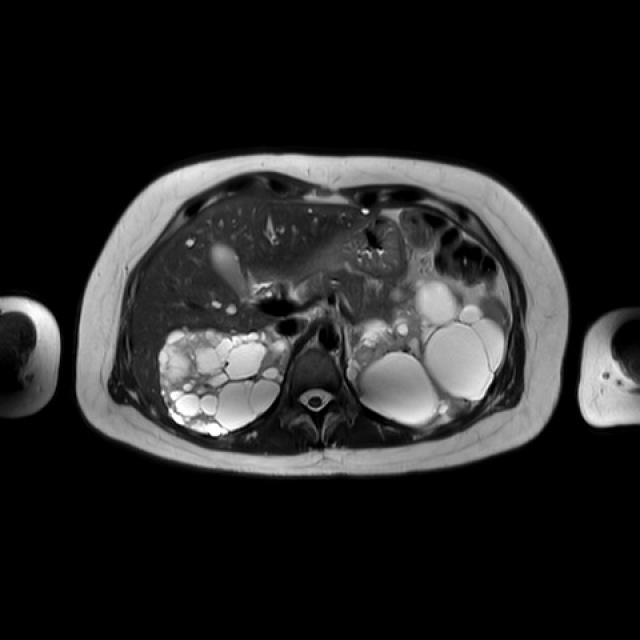sag: (160, 329, 291, 436)
sol: (343, 279, 506, 423)
